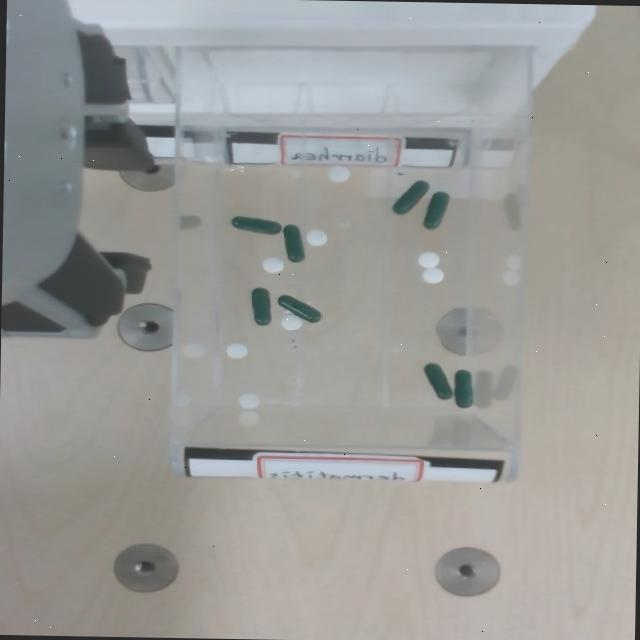ganakan_tab: (304, 228, 329, 247), (415, 250, 440, 269), (419, 266, 445, 284), (278, 313, 302, 331), (280, 313, 303, 331), (260, 256, 283, 273), (327, 165, 350, 182), (224, 342, 246, 358), (305, 230, 327, 246), (238, 392, 258, 409), (238, 393, 259, 409), (422, 268, 443, 284), (417, 252, 438, 268), (225, 344, 247, 359), (327, 167, 349, 182), (262, 258, 283, 273)
monodoxy_cap: (275, 293, 323, 323), (391, 179, 430, 215), (392, 181, 429, 215), (277, 295, 321, 323), (422, 361, 453, 399), (421, 191, 450, 230), (229, 215, 282, 235), (423, 363, 451, 400), (281, 222, 306, 262), (422, 192, 449, 229), (249, 287, 272, 326), (232, 217, 281, 235), (452, 368, 474, 408), (281, 225, 304, 262), (250, 288, 270, 325), (453, 370, 472, 408)
